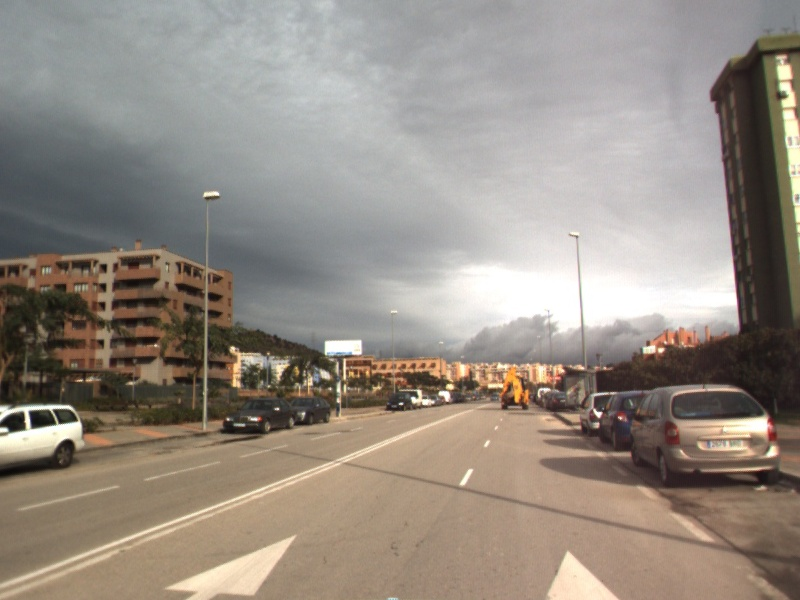STRAIGHT: (159, 530, 301, 600)
